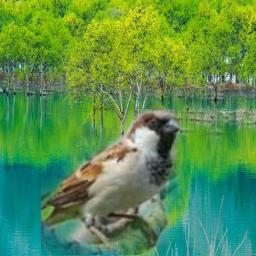Sparrow: (41, 109, 180, 255)
